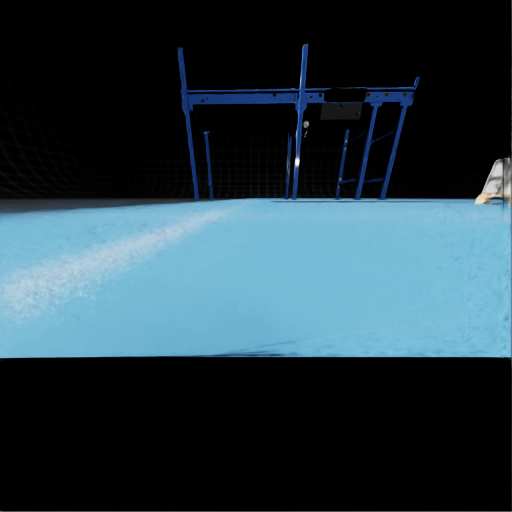transportation_area: (495, 161, 511, 196), (297, 96, 298, 97)
